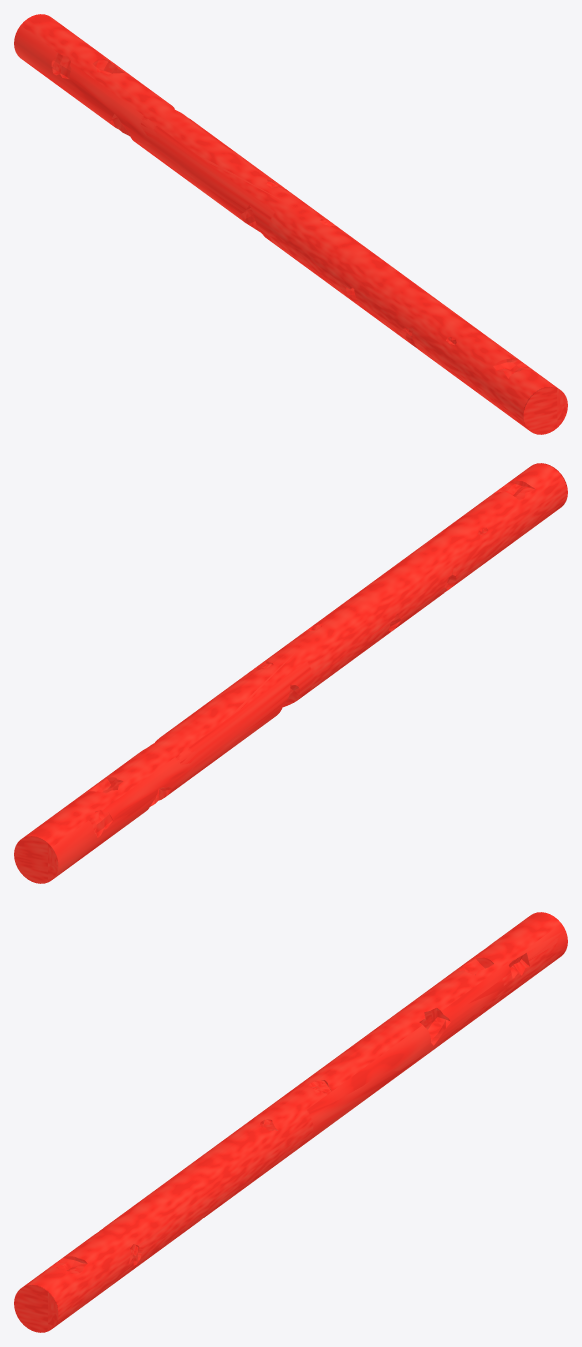
File: basicLaser2.glb
3 views of the same model, one above another, from view 1: azimuth 30°, elevation 25°; view 2: azimuth 150°, elevation 25°; view 3: azimuth 330°, elevation 25° (orthographic).
Visible parts, largest first — view 1: Cylinder; view 2: Cylinder; view 3: Cylinder.
Part boxes in pixels (left/top/right/bottom): Cylinder: left=14, top=14, right=567, bottom=434; Cylinder: left=14, top=463, right=567, bottom=883; Cylinder: left=14, top=912, right=567, bottom=1332.
Bounding box in the file's own units: 1.12 × 1.12 × 22.21.
Materials: 1 (1 with a texture image).
